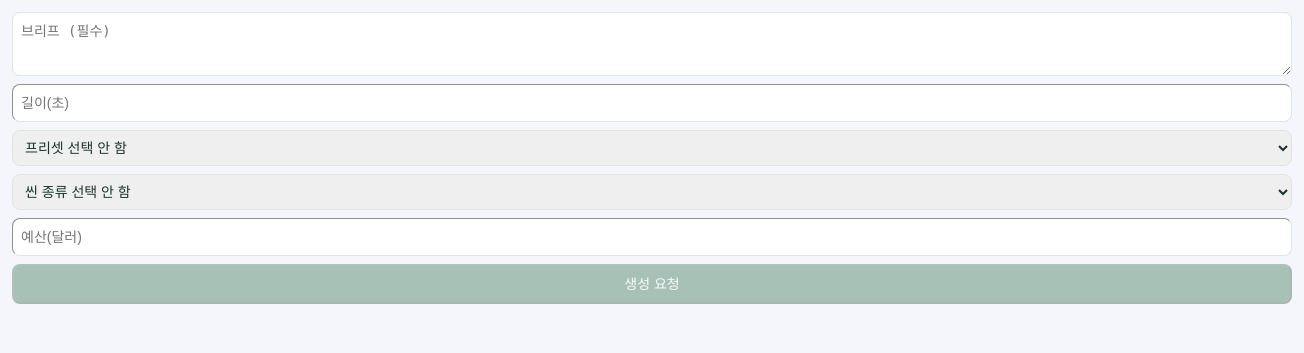
FormComposer › rejects non-digit keystrokes in the duration field
In the field labelled "길이(초)": (652, 103) [12,84,1292,122], type "ab15cd"
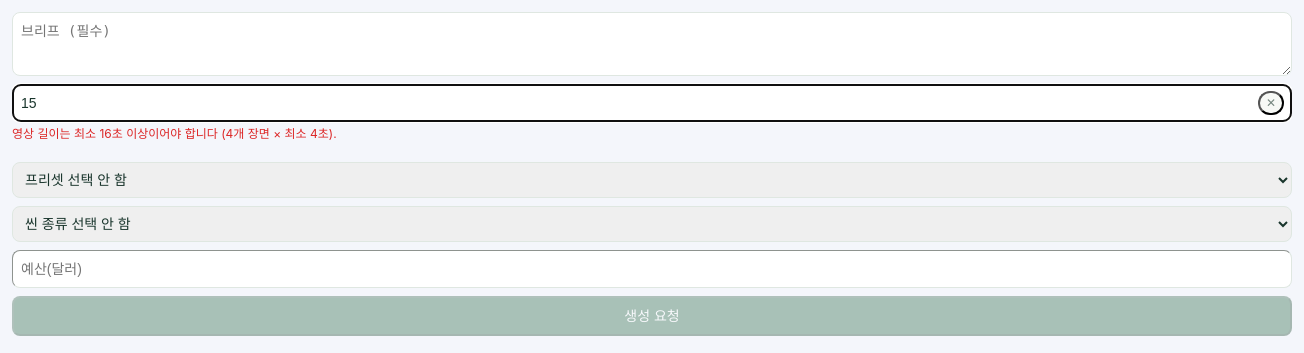
Now the field named "길이(초)" holds "15", box [12,84,1292,122]
